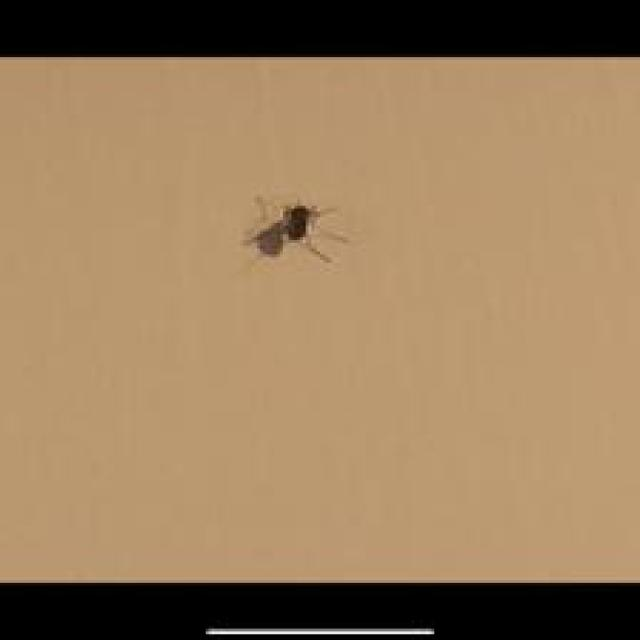Culex: (244, 193, 350, 264)
